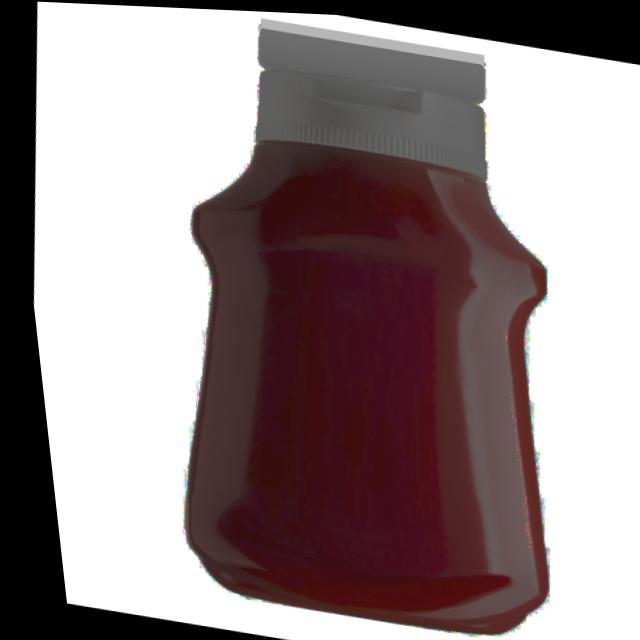ketchup: (111, 37, 619, 640)
